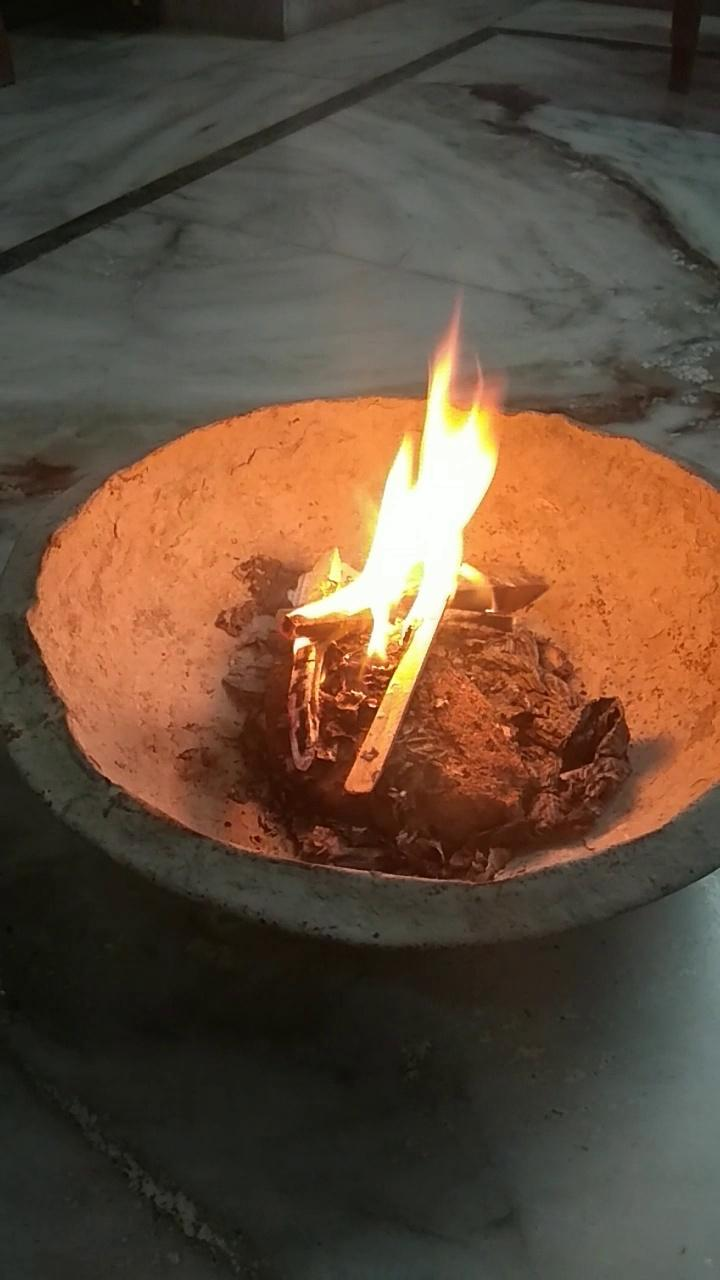fire: (261, 308, 512, 667)
